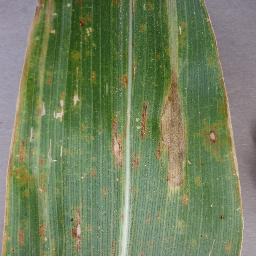Corn_Blight: (26, 117, 56, 256), (15, 0, 60, 92), (156, 68, 190, 187), (5, 92, 26, 256), (224, 87, 241, 190), (162, 0, 188, 67), (28, 91, 81, 118), (211, 30, 229, 87), (68, 204, 86, 252), (109, 113, 126, 163), (236, 190, 248, 256), (108, 0, 155, 15), (68, 41, 96, 66), (168, 189, 193, 211), (199, 125, 224, 146), (198, 0, 216, 29), (139, 98, 151, 140), (116, 69, 129, 94), (77, 15, 92, 34), (130, 154, 145, 170), (84, 166, 100, 181), (222, 236, 236, 252), (90, 67, 99, 85), (194, 173, 203, 186), (219, 212, 228, 221)
